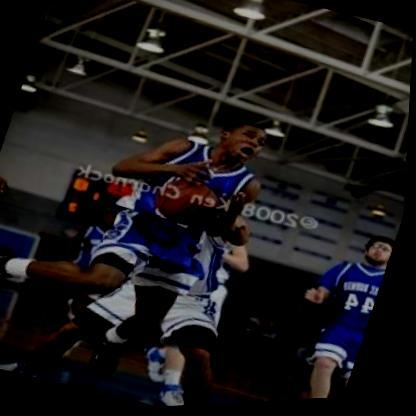basketball: (150, 170, 233, 237)
